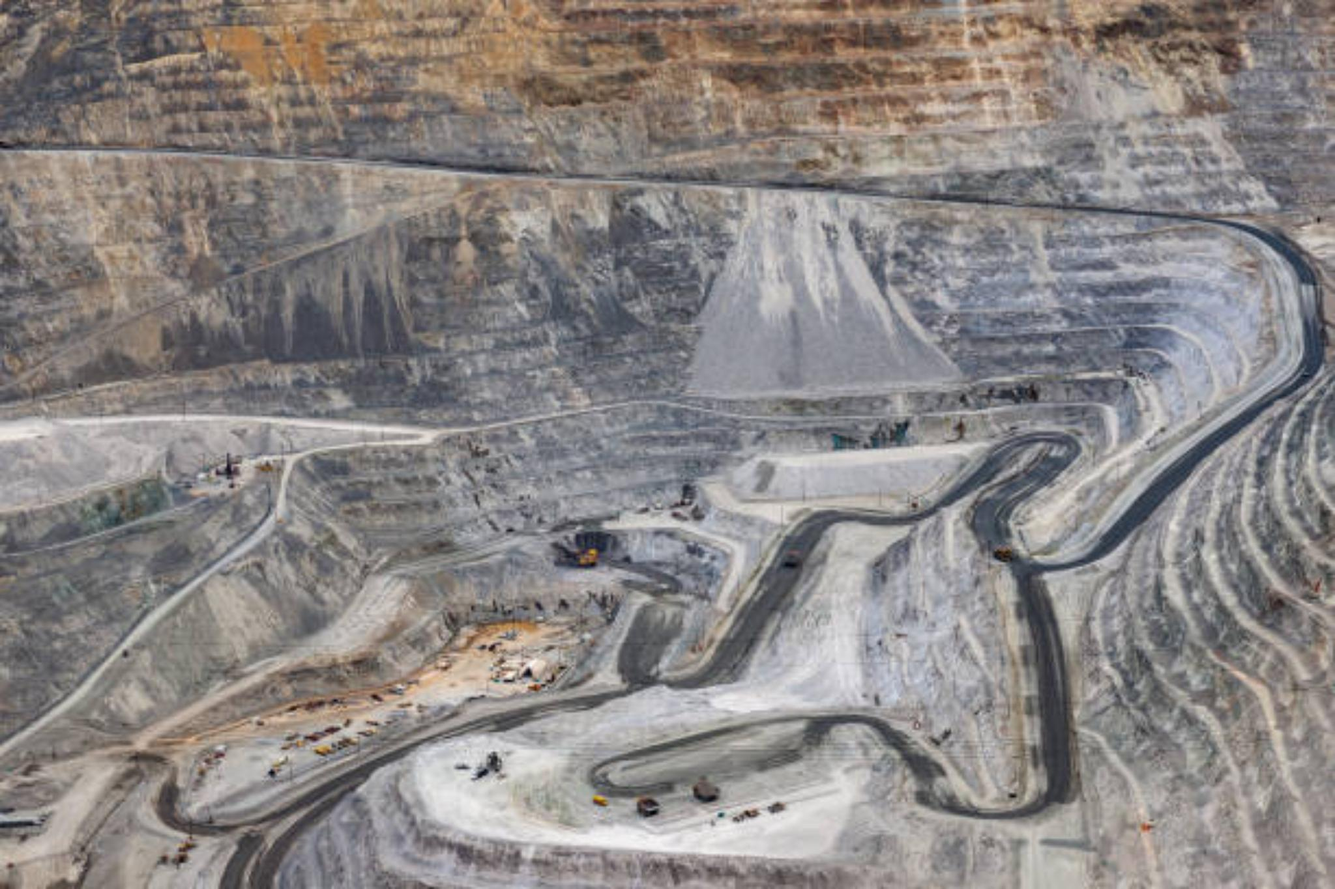benches: (620, 212, 1333, 817), (0, 414, 506, 756), (157, 695, 587, 887), (589, 708, 955, 793)
wall: (0, 150, 1322, 423)
